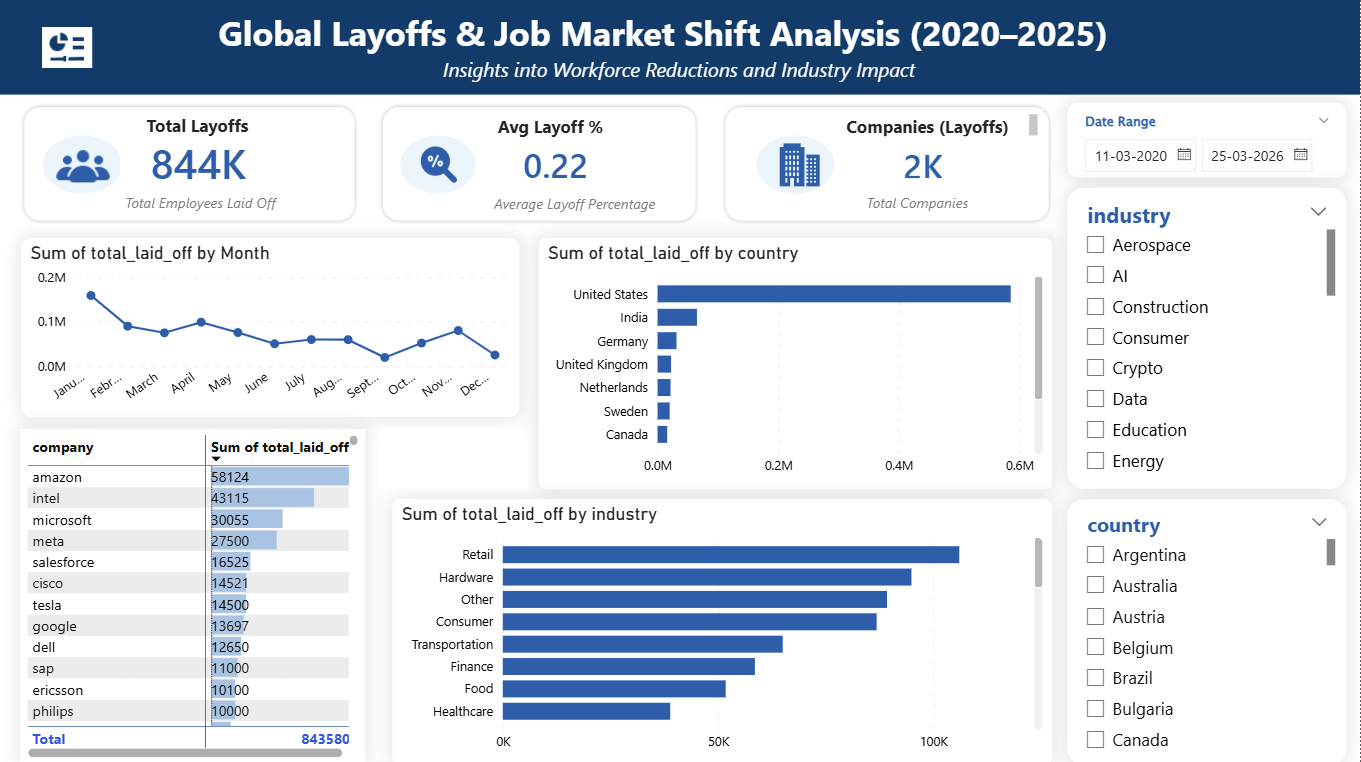

The page's visual inventory and layout, read from the dashboard file:
{"tool":"powerbi","page":{"name":"Page 1","canvas":[1280,720],"ordinal":0},"visuals":[{"type":"lineChart","fields":{"Category":["layoffs1.date.Variation.Date Hierarchy.Year","layoffs1.date.Variation.Date Hierarchy.Quarter","layoffs1.date.Variation.Date Hierarchy.Month","layoffs1.date.Variation.Date Hierarchy.Day"],"Y":["Sum(layoffs1.total_laid_off)"]},"box":[20.3,224.3,468.9,169.1],"z":0},{"type":"slicer","fields":{"Values":["layoffs1.date"]},"box":[1004.7,97.6,262.4,70.6],"z":1000},{"type":"slicer","fields":{"Values":["layoffs1.country"]},"box":[1004.3,470,262.6,250.2],"z":2000},{"type":"slicer","fields":{"Values":["layoffs1.industry"]},"box":[1004.3,178.1,262.6,282.9],"z":3000},{"type":"clusteredBarChart","fields":{"Category":["layoffs1.country"],"Y":["Sum(layoffs1.total_laid_off)"]},"box":[507.2,224.3,483.5,236.7],"z":4000},{"type":"clusteredBarChart","fields":{"Category":["layoffs1.industry"],"Y":["Sum(layoffs1.total_laid_off)"]},"box":[369.7,470,621,250.2],"z":5000},{"type":"tableEx","fields":{"Values":["layoffs1.company","Sum(layoffs1.total_laid_off)"]},"box":[19.2,404.6,324.6,315.6],"z":6000},{"type":"shape","box":[0,0,1280,90],"z":7000},{"type":"textbox","box":[186,4.7,876.7,84.9],"z":8000},{"type":"textbox","box":[369.8,47.7,539.5,61.6],"z":9000},{"type":"image","box":[19.8,17.4,86,55.8],"z":10000},{"type":"group","id":"g1","title":"Group 1","box":[356.2,98.1,302.1,115],"z":11000},{"type":"group","id":"g2","title":"Group 1","box":[678.5,98.1,312.2,115],"z":12000},{"type":"group","id":"g3","title":"Group 2","box":[19.2,98.1,319,115],"z":13000},{"type":"shape","box":[19.2,98.1,319,115],"z":14000,"group":"g3"},{"type":"shape","box":[356.2,98.1,302.1,115],"z":14000,"group":"g1"},{"type":"shape","box":[678.5,98.1,312.2,115],"z":14000,"group":"g2"},{"type":"shape","box":[356.2,403.5,140.9,57.5],"z":14000},{"type":"shape","box":[40.7,128.5,75.3,55.1],"z":15000,"group":"g3"},{"type":"shape","box":[376.6,128.5,71.3,55.1],"z":15000,"group":"g1"},{"type":"shape","box":[711.9,128.8,73.7,55.2],"z":15000,"group":"g2"},{"type":"cardVisual","title":"Companies Conducting Layoffs","fields":{"Data":["layoffs1.company_with_layoffs"]},"box":[821.1,125.1,110.5,62],"z":17000,"group":"g2"},{"type":"textbox","box":[810,178.5,158.7,27.3],"z":18000,"group":"g2"},{"type":"textbox","box":[459.5,179.9,171.7,28.5],"z":18000,"group":"g1"},{"type":"cardVisual","title":"Total Layoffs","fields":{"Data":["Sum(layoffs1.total_laid_off)"]},"box":[113.9,116.3,151.3,74.9],"z":18250,"group":"g3"},{"type":"textbox","box":[113.9,177.9,168.2,27.8],"z":18375,"group":"g3"},{"type":"textbox","box":[133.7,103.1,117.2,36.4],"z":18500,"group":"g3"},{"type":"textbox","box":[791.2,104.5,189.6,30.7],"z":18500,"group":"g2"},{"type":"cardVisual","title":"Avg Layoff''s","fields":{"Data":["layoffs1.avg og layoff %"]},"box":[463,122.8,126.2,65.4],"z":18750,"group":"g1"},{"type":"textbox","box":[463,103.7,122.9,33.8],"z":18875,"group":"g1"},{"type":"image","box":[53.8,128.5,50.2,55.1],"z":19000,"group":"g3"},{"type":"image","box":[389,128.5,47.5,55.1],"z":19000,"group":"g1"},{"type":"image","box":[726.7,134.6,51.1,44.2],"z":19000,"group":"g2"}]}

Visuals, with their boxes in screenshot pixels (x1, y1, x2, y2), scaled from the page's 1280x720 canvas onto the 1361x762 screenshot:
lineChart - layoffs1.date.Variation.Date Hierarchy.Year x layoffs1.date.Variation.Date Hierarchy.Quarter: locate(22, 237, 520, 416)
slicer - layoffs1.date: locate(1068, 103, 1347, 178)
slicer - layoffs1.country: locate(1068, 497, 1347, 761)
slicer - layoffs1.industry: locate(1068, 188, 1347, 488)
clusteredBarChart - layoffs1.country x Sum(layoffs1.total_laid_off): locate(539, 237, 1053, 488)
clusteredBarChart - layoffs1.industry x Sum(layoffs1.total_laid_off): locate(393, 497, 1053, 761)
tableEx - layoffs1.company x Sum(layoffs1.total_laid_off): locate(20, 428, 366, 761)
shape: locate(0, 0, 1360, 95)
textbox: locate(198, 5, 1130, 95)
textbox: locate(393, 50, 967, 116)
image: locate(21, 18, 112, 77)
"Group 1" group: locate(379, 104, 700, 226)
"Group 1" group: locate(721, 104, 1053, 226)
"Group 2" group: locate(20, 104, 360, 226)
shape: locate(20, 104, 360, 226)
shape: locate(379, 104, 700, 226)
shape: locate(721, 104, 1053, 226)
shape: locate(379, 427, 529, 488)
shape: locate(43, 136, 123, 194)
shape: locate(400, 136, 476, 194)
shape: locate(757, 136, 835, 195)
"Companies Conducting Layoffs" cardVisual: locate(873, 132, 991, 198)
textbox: locate(861, 189, 1030, 218)
textbox: locate(489, 190, 671, 221)
"Total Layoffs" cardVisual: locate(121, 123, 282, 202)
textbox: locate(121, 188, 300, 218)
textbox: locate(142, 109, 267, 148)
textbox: locate(841, 111, 1043, 143)
"Avg Layoff''s" cardVisual: locate(492, 130, 626, 199)
textbox: locate(492, 110, 623, 146)
image: locate(57, 136, 111, 194)
image: locate(414, 136, 464, 194)
image: locate(773, 142, 827, 189)
